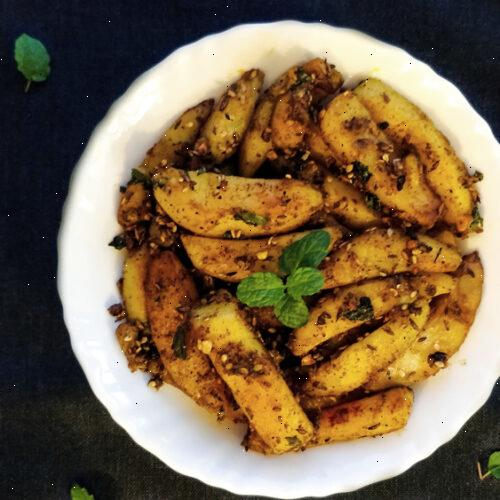aloo sabji: (118, 108, 498, 433)
